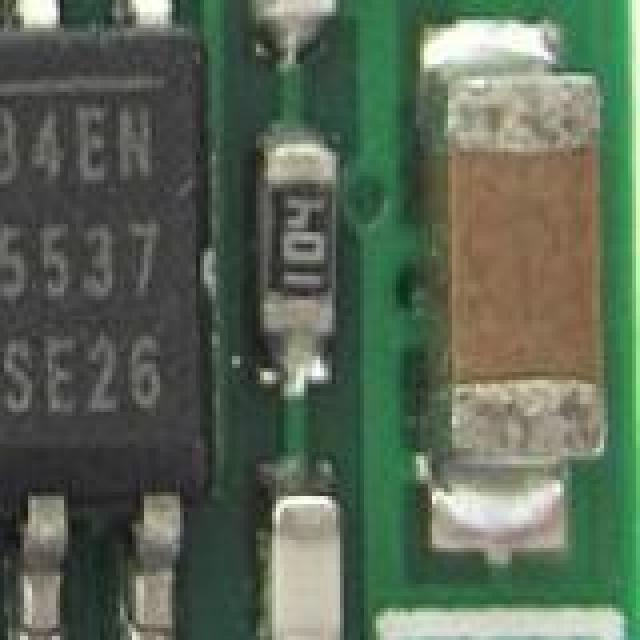IC: (0, 0, 220, 576)
capacitor: (416, 52, 622, 480), (276, 500, 340, 640)
resistor: (256, 144, 330, 346), (252, 0, 332, 32)
